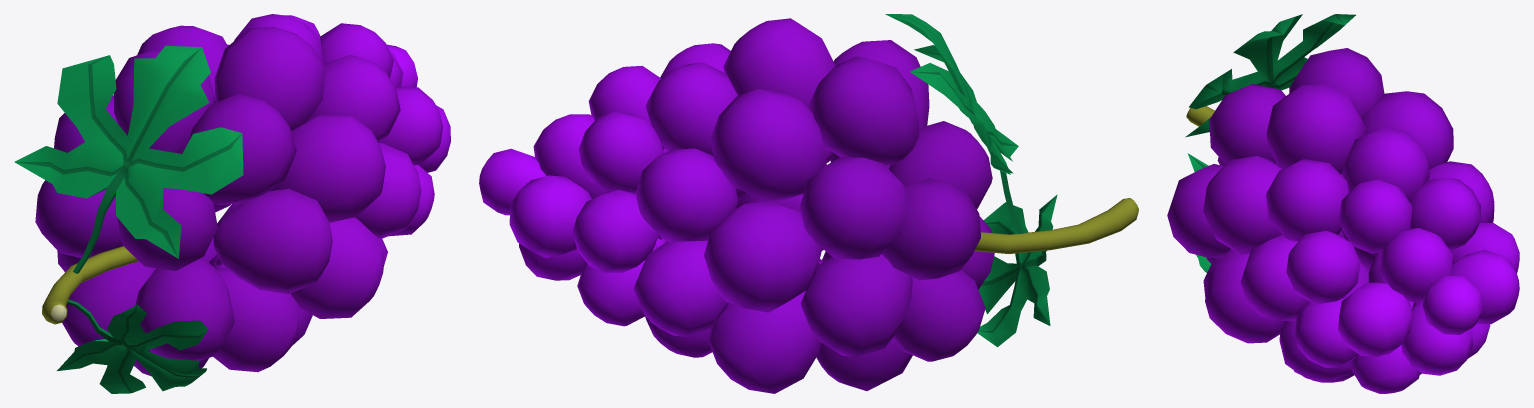
Rendered from SM_Fruits_Grape_P2.fbx.
3 renders of one model, left to right at view 1: azimuth 30°, elevation 25°; view 2: azimuth 150°, elevation 25°; view 3: azimuth 270°, elevation 25°, orthographic. The views are drawn at different scales.
Visible parts, largest first — view 1: SM_Fruits_Grape_P2; view 2: SM_Fruits_Grape_P2; view 3: SM_Fruits_Grape_P2.
Boxes of the visible parts, x1,y1,x2,y2 form: SM_Fruits_Grape_P2: (14, 14, 450, 393); SM_Fruits_Grape_P2: (479, 14, 1138, 393); SM_Fruits_Grape_P2: (1167, 14, 1519, 393).
Bounding box in the file's own units: 35.1 × 23.15 × 23.42.
